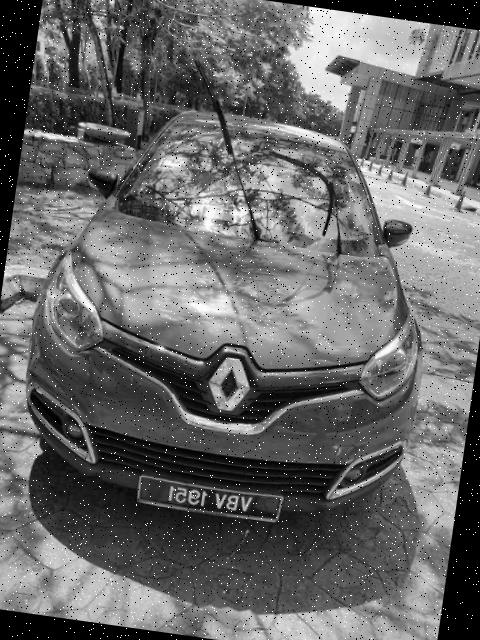License_Plate: (134, 475, 285, 527)
car: (9, 89, 457, 544)
